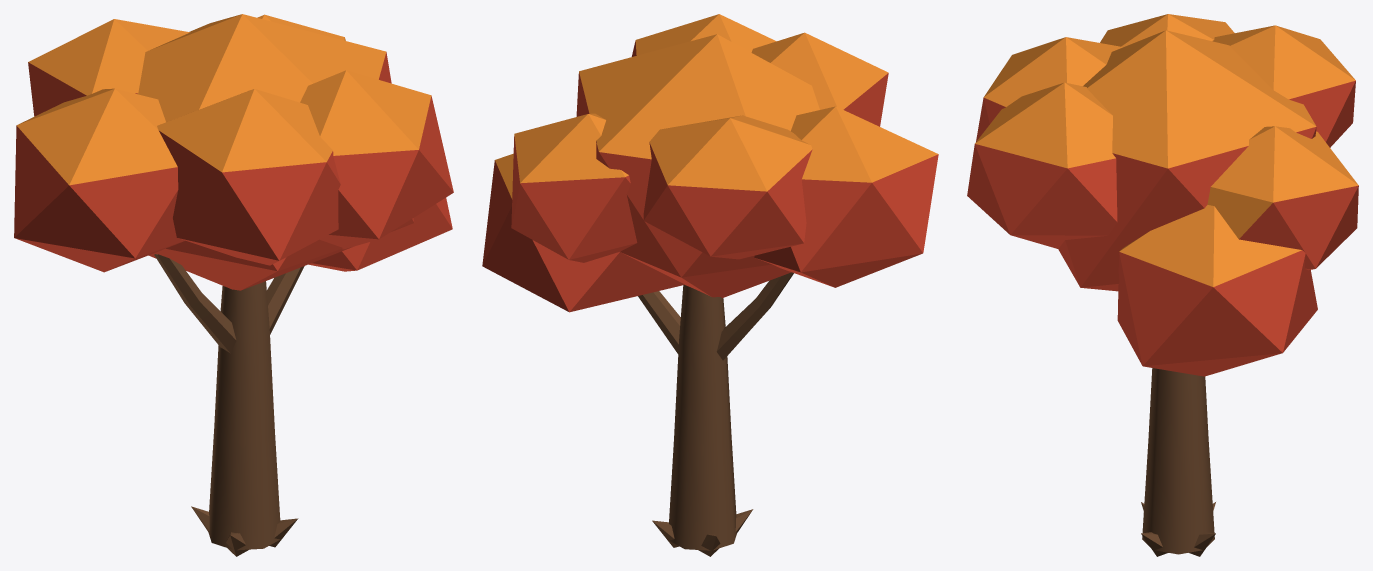
File: RedAutumnTree.fbx
The picture shows the model from 3 angles, left to right: view 1: azimuth 30°, elevation 25°; view 2: azimuth 150°, elevation 25°; view 3: azimuth 270°, elevation 25°; orthographic projection. The views are drawn at different scales.
Visible parts, largest first — view 1: RedAutumnTree; view 2: RedAutumnTree; view 3: RedAutumnTree.
Part boxes in pixels (left/top/right/bottom): RedAutumnTree: left=14, top=14, right=453, bottom=556; RedAutumnTree: left=482, top=14, right=938, bottom=556; RedAutumnTree: left=967, top=14, right=1358, bottom=556.
Size of the model in its own units: 12.09 by 14.32 by 9.9.
Materials: 1 (1 with a texture image).
